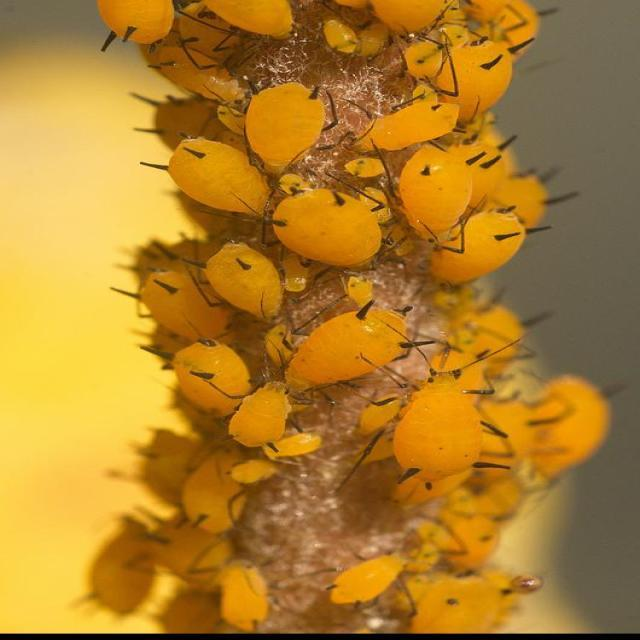aphid: (350, 328, 533, 514), (268, 262, 442, 410), (260, 172, 413, 299), (210, 64, 360, 176), (430, 202, 559, 300), (186, 237, 314, 332), (308, 535, 434, 619), (328, 84, 478, 150), (396, 143, 481, 247), (220, 362, 304, 460)
